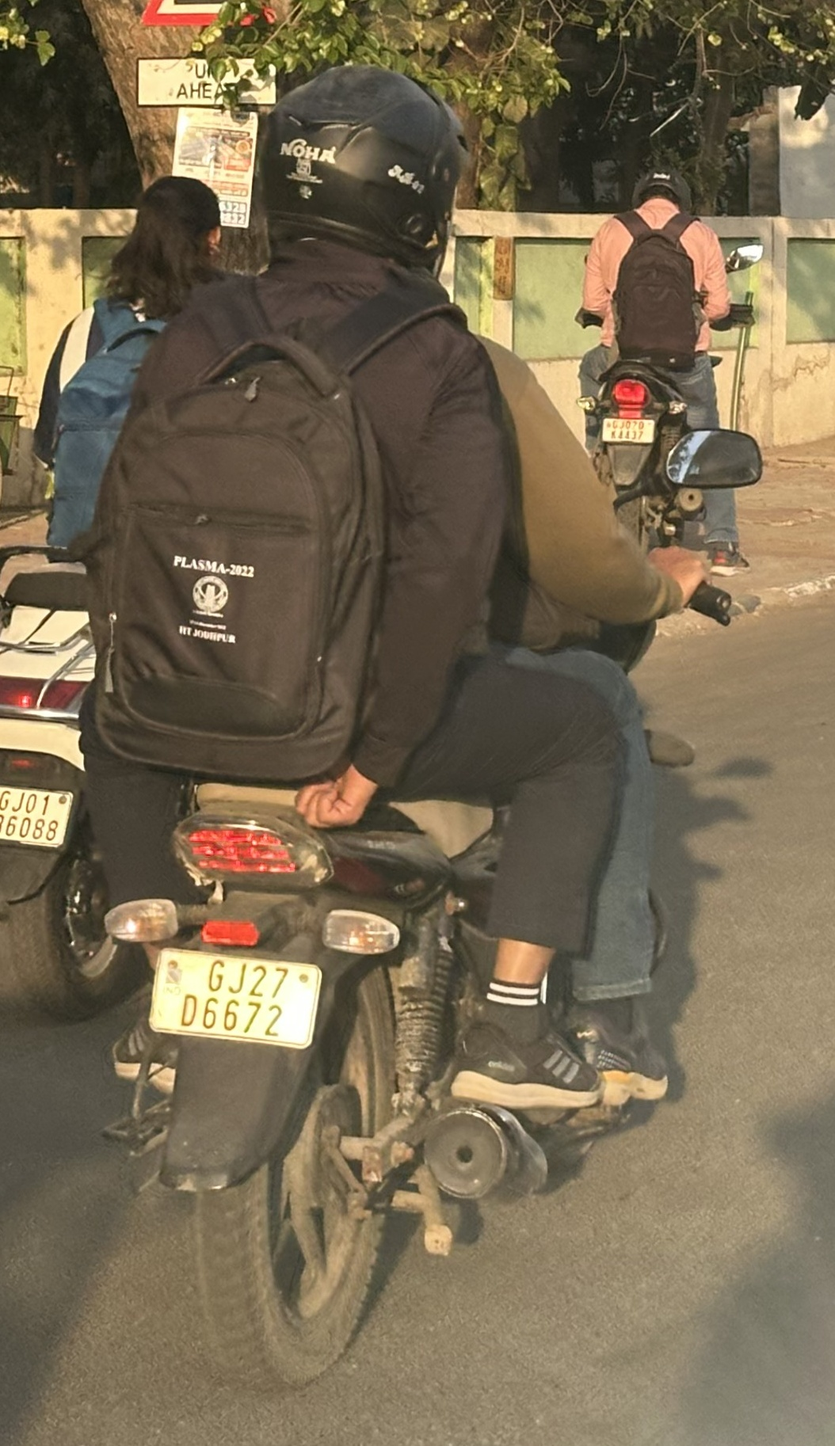BikeWithRider: (78, 69, 753, 1394), (0, 171, 264, 1024), (559, 153, 757, 584)
Helmet: (235, 67, 476, 283), (626, 159, 697, 210)
NoHelmet: (128, 174, 237, 277)
